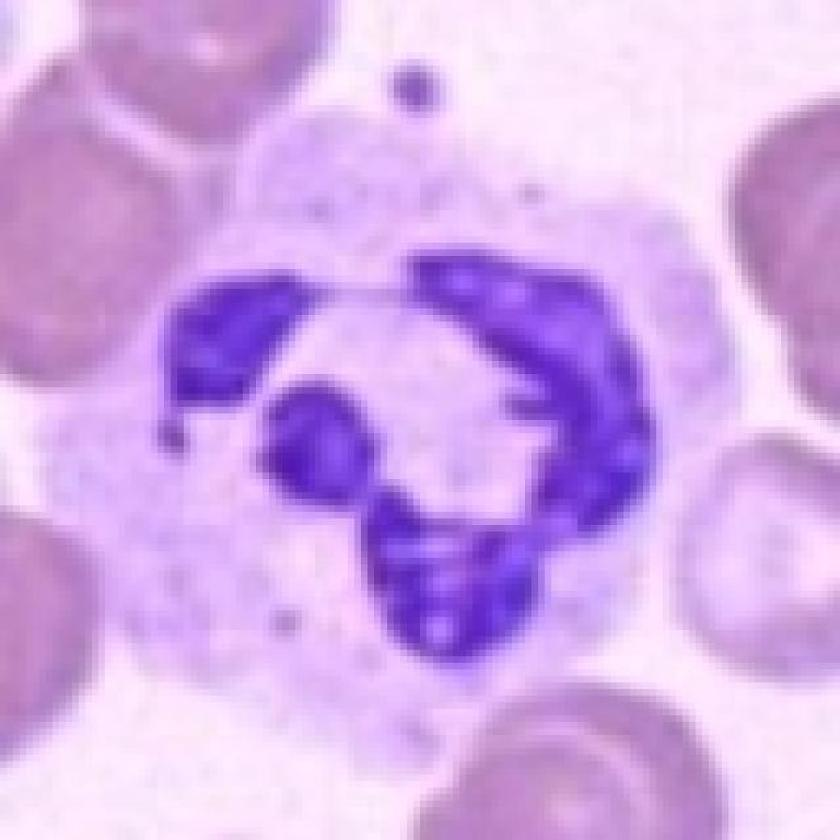neutrophil: (37, 119, 750, 774)
